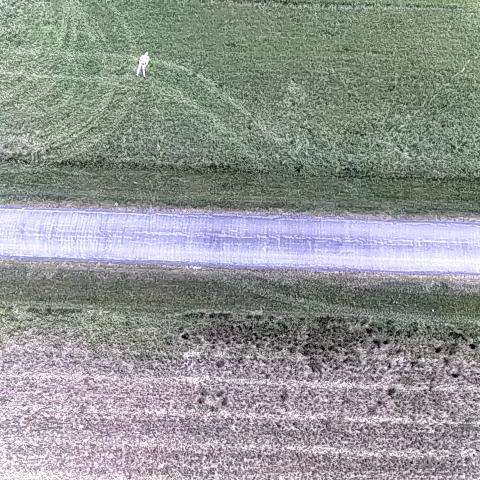person: (137, 51, 150, 77)
